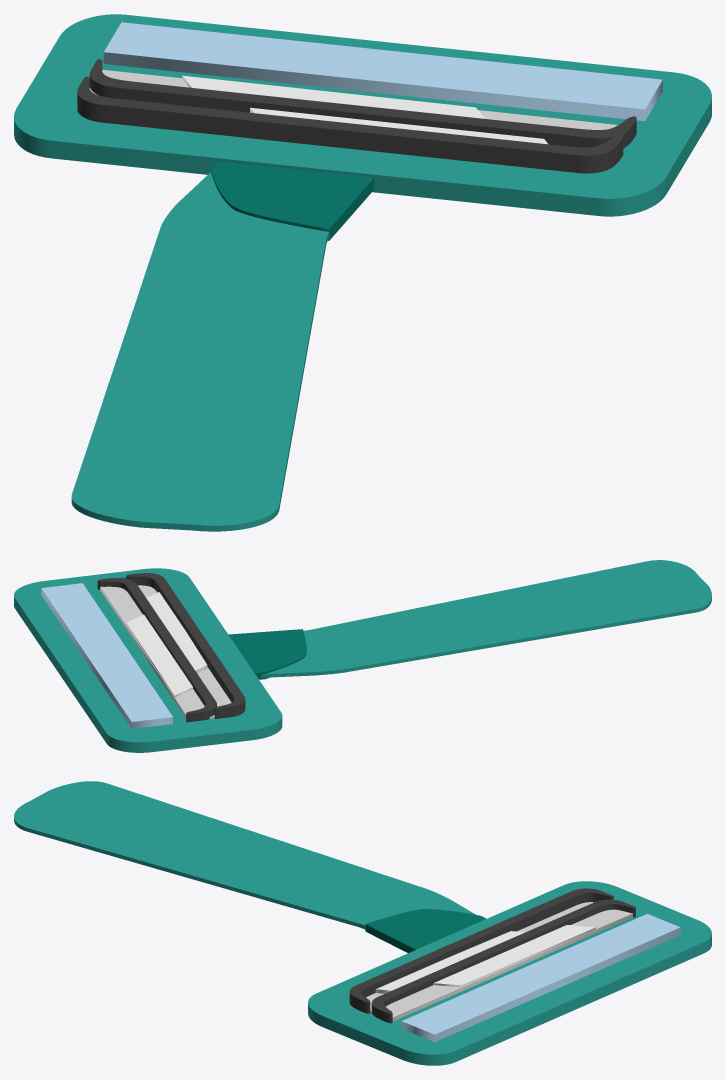
The model's file is emoji_u1fa92.glb.
3 renders of one model, top to bottom at view 1: azimuth 30°, elevation 25°; view 2: azimuth 150°, elevation 25°; view 3: azimuth 270°, elevation 25°, orthographic. The views are drawn at different scales.
Parts seen in each view (by area): view 1: emoji_u1fa92; view 2: emoji_u1fa92; view 3: emoji_u1fa92.
Part boxes in pixels (box(x1,y1,x2,y2)): emoji_u1fa92: box(14, 14, 711, 531); emoji_u1fa92: box(14, 560, 711, 752); emoji_u1fa92: box(14, 781, 711, 1065).
Bounding box in the file's own units: 0.0317 × 0.0018 × 0.0338.
